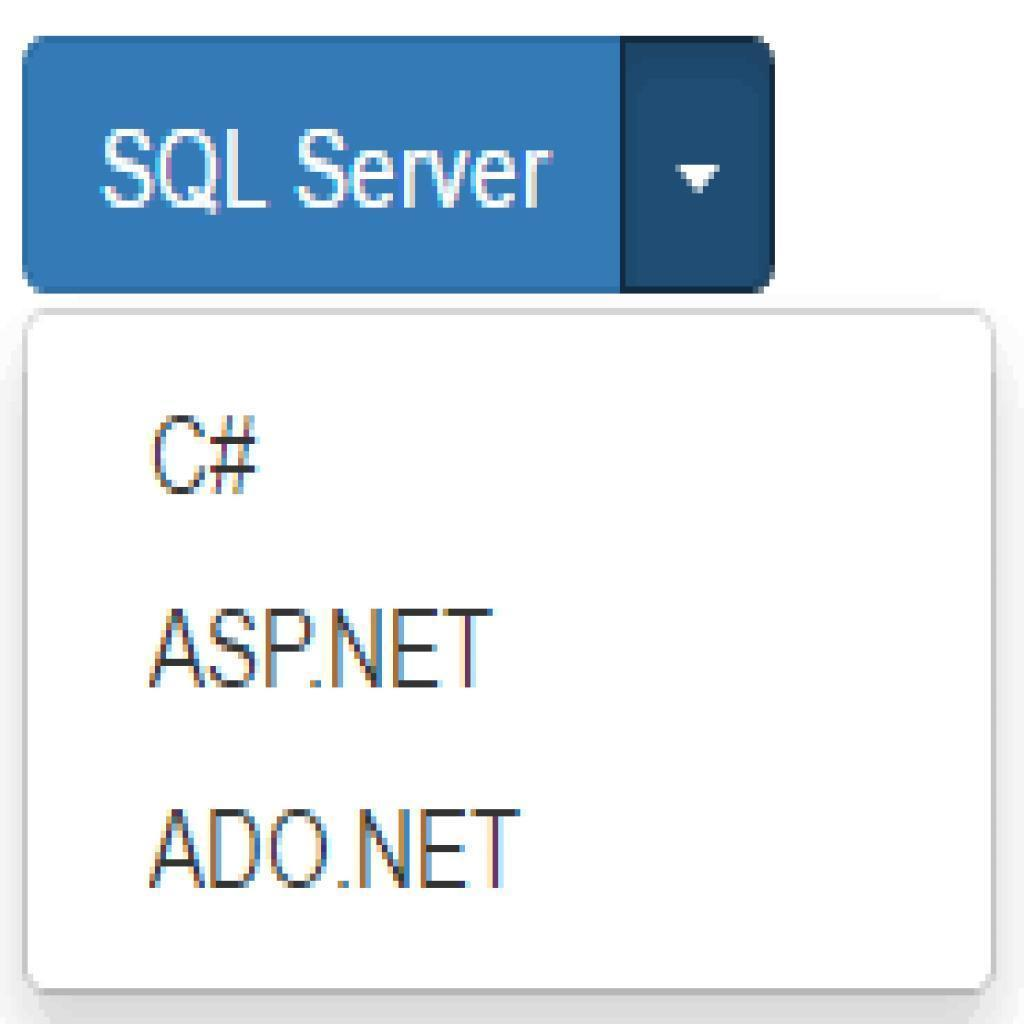dropdown: (29, 37, 771, 291)
